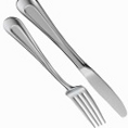fork: (3, 16, 107, 128)
